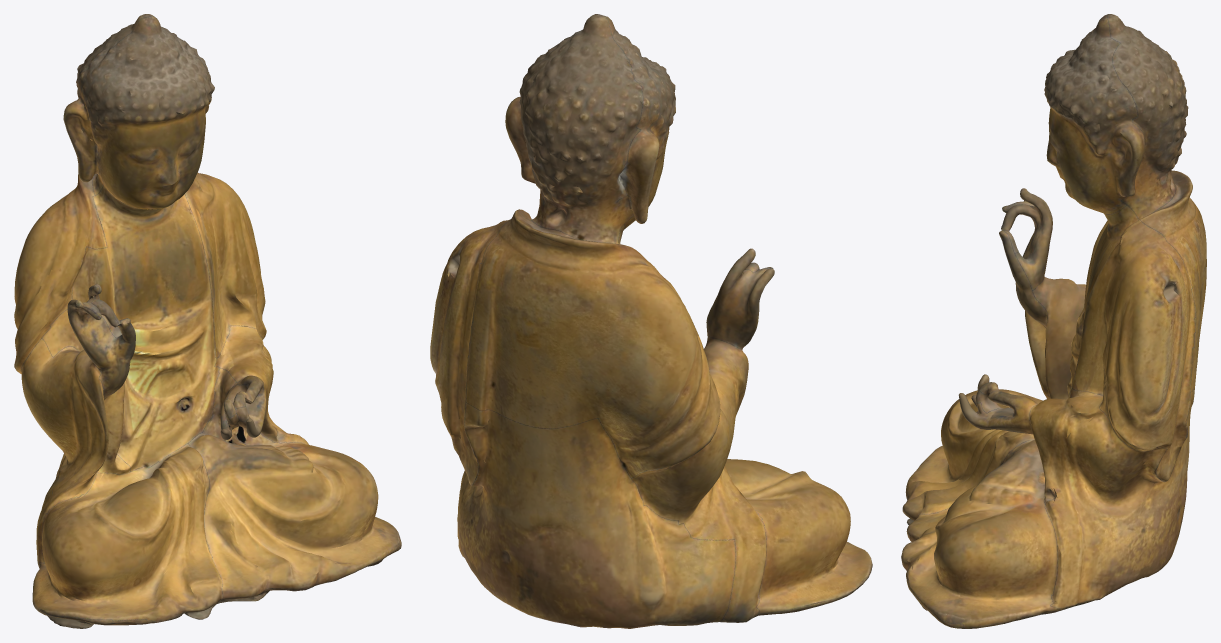
The model's file is buddha.glb.
3 views of the same model, side by side, from view 1: azimuth 30°, elevation 25°; view 2: azimuth 150°, elevation 25°; view 3: azimuth 270°, elevation 25° (orthographic). The views are drawn at different scales.
Visible parts, largest first — view 1: duk002116_002_30000; view 2: duk002116_002_30000; view 3: duk002116_002_30000.
Boxes of the visible parts, x1,y1,x2,y2 form: duk002116_002_30000: (14, 14, 401, 628); duk002116_002_30000: (430, 14, 872, 628); duk002116_002_30000: (901, 14, 1206, 628).
Bounding box in the file's own units: 101 × 143 × 75.06.
1 material, 1 textured.
